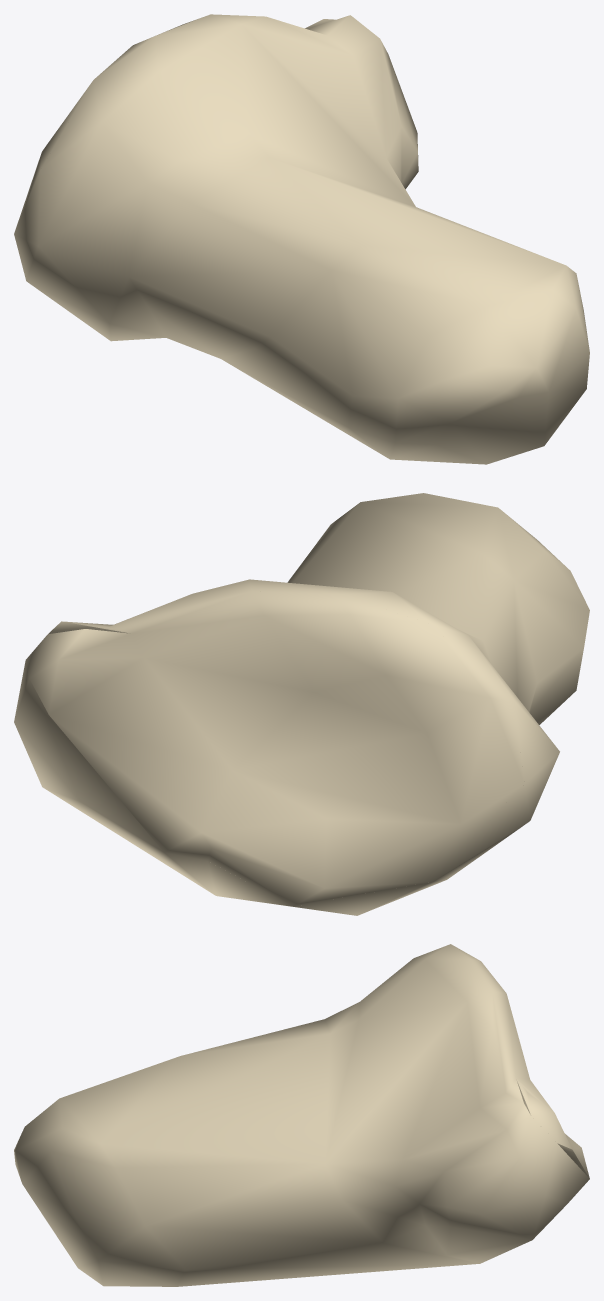
File: esqueleto-distal-phalanx-of-third-finger-of-foot-l.glb
The picture shows the model from 3 angles, top to bottom: view 1: azimuth 30°, elevation 25°; view 2: azimuth 150°, elevation 25°; view 3: azimuth 270°, elevation 25°; orthographic projection. The views are drawn at different scales.
Visible parts, largest first — view 1: Distal phalanx of third finger of foot.l; view 2: Distal phalanx of third finger of foot.l; view 3: Distal phalanx of third finger of foot.l.
Boxes of the visible parts, x1=… form: Distal phalanx of third finger of foot.l: x1=14, y1=14, x2=589, y2=464; Distal phalanx of third finger of foot.l: x1=14, y1=493, x2=589, y2=915; Distal phalanx of third finger of foot.l: x1=14, y1=944, x2=589, y2=1286.
Bounding box in the file's own units: 0.00885 × 0.00616 × 0.012.
